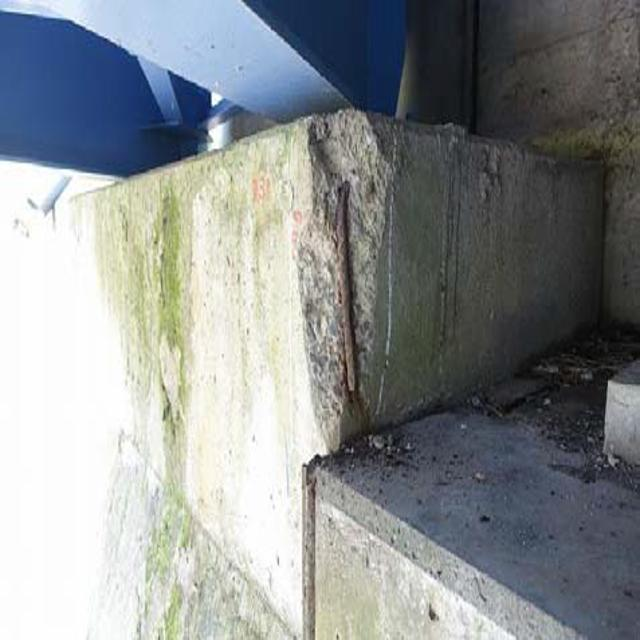spalling: (283, 93, 408, 464)
